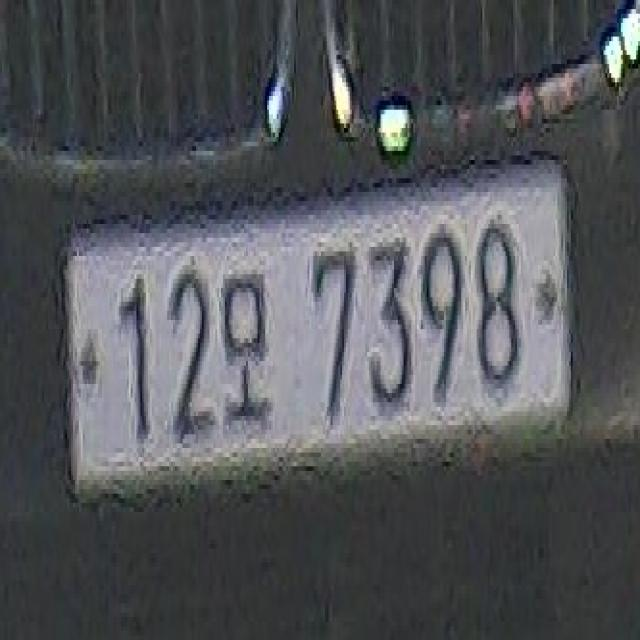1: (117, 261, 160, 466)
2: (166, 256, 216, 462)
3: (361, 229, 415, 416)
7: (306, 233, 361, 425)
8: (471, 201, 525, 393)
9: (415, 215, 467, 407)
license_plate: (58, 132, 582, 526)
mo: (215, 261, 281, 444)
